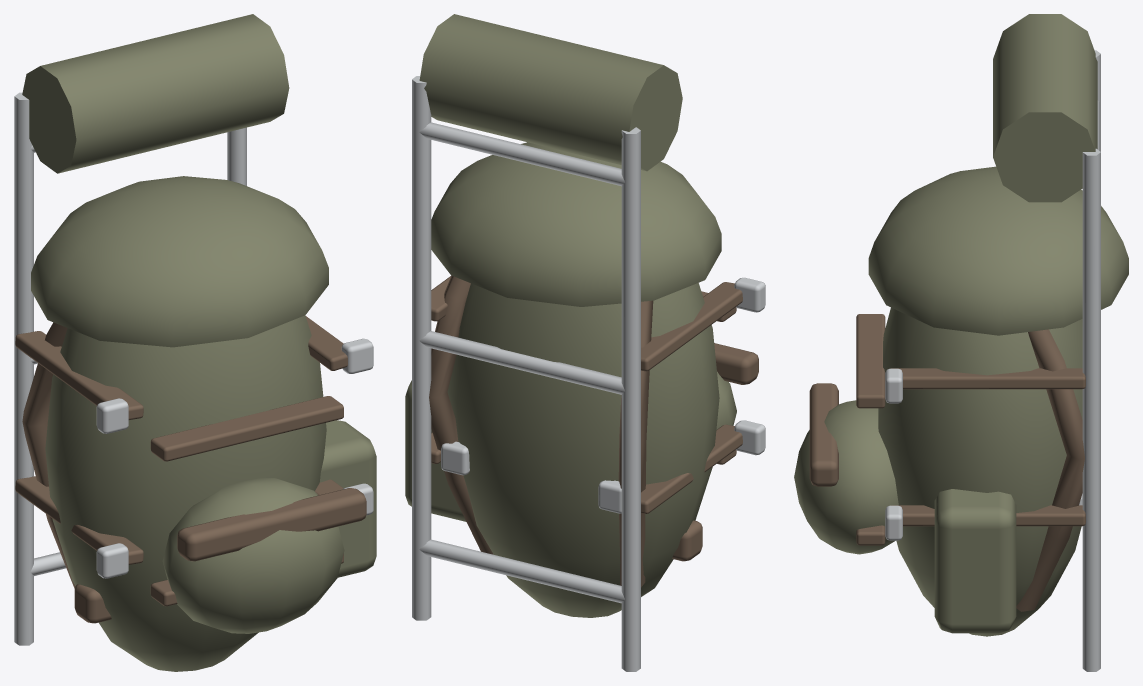
File: fps-survival-forest-outpost-backpack-frame-245da625__32664.glb
3 views of the same model, side by side, from view 1: azimuth 30°, elevation 25°; view 2: azimuth 150°, elevation 25°; view 3: azimuth 270°, elevation 25° (orthographic). The views are drawn at different scales.
Parts seen in each view (by area): view 1: backpack-frame; view 2: backpack-frame; view 3: backpack-frame.
Part boxes in pixels (<box>): backpack-frame: <box>14,14,376,671</box>; backpack-frame: <box>405,14,765,671</box>; backpack-frame: <box>794,14,1128,671</box>.
Size of the model in its own units: 0.575 by 1.07 by 0.5758.
